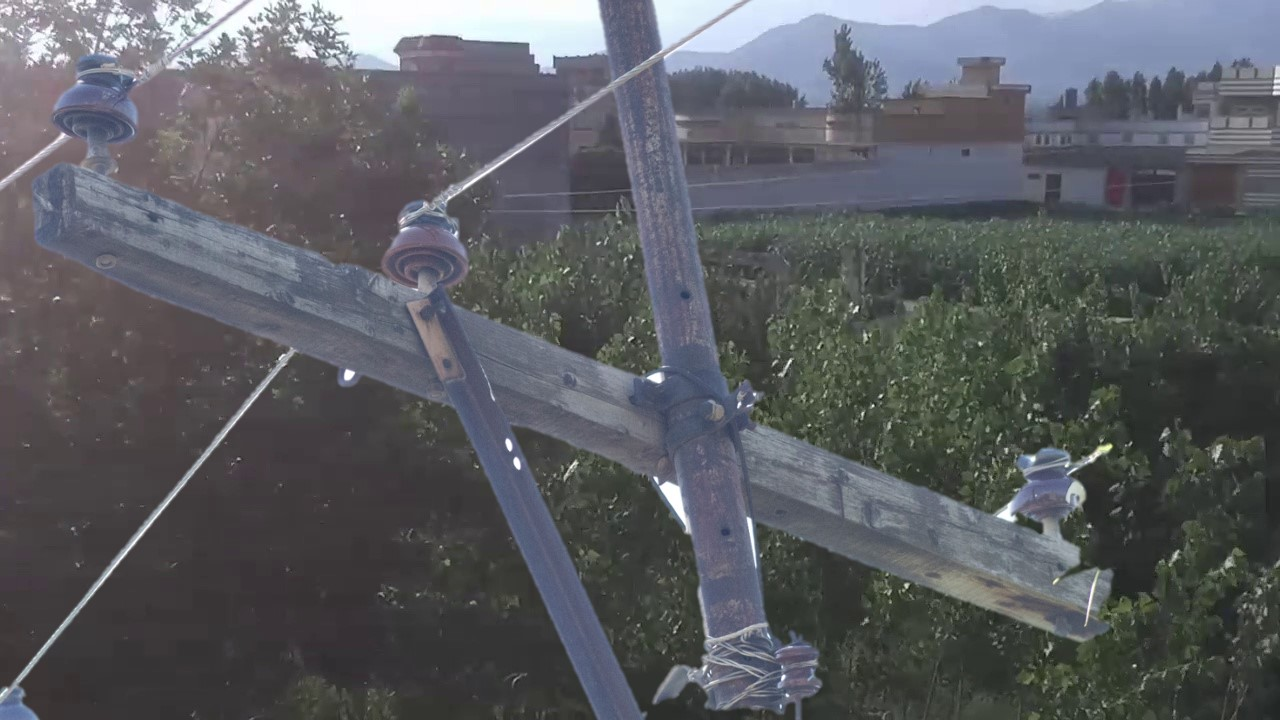defect_pin: (1005, 439, 1093, 530)
insulator_pin: (379, 192, 476, 299), (52, 49, 140, 155)
